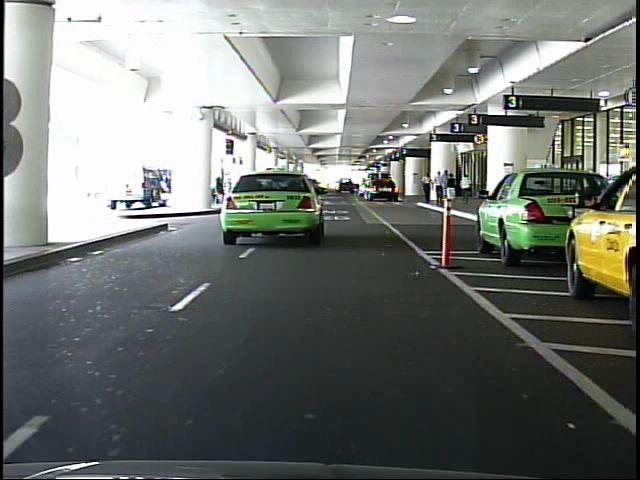person: (458, 170, 475, 212), (419, 170, 435, 210), (445, 172, 458, 213), (435, 168, 447, 209)
